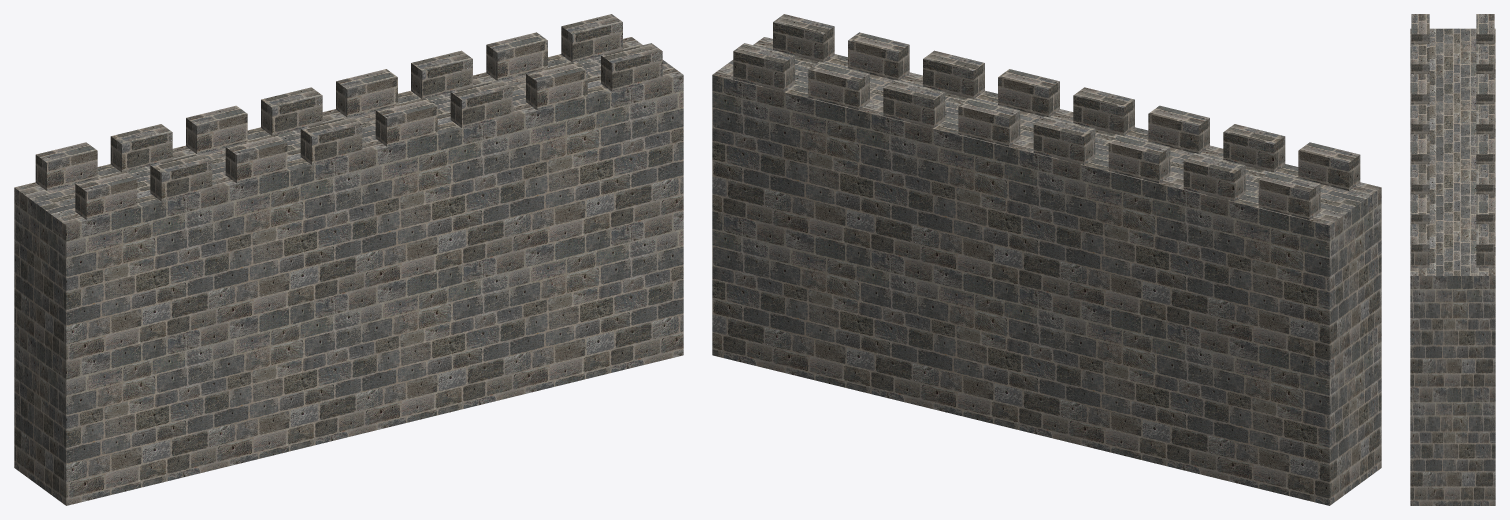
File: Wall.FBX
3 renders of one model, left to right at view 1: azimuth 30°, elevation 25°; view 2: azimuth 150°, elevation 25°; view 3: azimuth 270°, elevation 25°, orthographic. The views are drawn at different scales.
Visible parts, largest first — view 1: Box01, Box03, Box04, Box06, Box05, Box07, Box02, Box10, Box11, Box08, Box09, Box12 (+5 smaller); view 2: Box01, Box11, Box12, Box14, Box13, Box10, Box15, Box02, Box03, Box17, Box16, Box04 (+5 smaller); view 3: Box01, Box09, Box17, Box16, Box04, Box05, Box06, Box07, Box08, Box15, Box12, Box13 (+5 smaller).
Boxes of the visible parts, bbox=[...] form: Box01: bbox=[14, 37, 683, 505]; Box03: bbox=[150, 153, 212, 201]; Box04: bbox=[225, 134, 287, 183]; Box06: bbox=[375, 98, 437, 146]; Box05: bbox=[300, 116, 362, 164]; Box07: bbox=[450, 79, 512, 128]; Box02: bbox=[75, 171, 137, 219]; Box10: bbox=[35, 142, 97, 190]; Box11: bbox=[110, 124, 172, 172]; Box08: bbox=[526, 61, 587, 109]; Box09: bbox=[601, 43, 662, 91]; Box12: bbox=[186, 105, 247, 153]; Box01: bbox=[712, 37, 1381, 505]; Box11: bbox=[1183, 153, 1245, 201]; Box12: bbox=[1108, 134, 1170, 183]; Box14: bbox=[958, 98, 1020, 146]; Box13: bbox=[1033, 116, 1095, 164]; Box10: bbox=[1258, 171, 1320, 219]; Box15: bbox=[883, 79, 945, 128]; Box02: bbox=[1298, 142, 1360, 190]; Box03: bbox=[1223, 124, 1285, 172]; Box17: bbox=[733, 43, 794, 91]; Box16: bbox=[808, 61, 869, 109]; Box04: bbox=[1148, 105, 1209, 153]; Box01: bbox=[1410, 28, 1495, 505]; Box09: bbox=[1411, 224, 1429, 267]; Box17: bbox=[1476, 224, 1494, 267]; Box16: bbox=[1476, 194, 1494, 224]; Box04: bbox=[1411, 74, 1429, 104]; Box05: bbox=[1411, 104, 1429, 134]; Box06: bbox=[1411, 134, 1429, 164]; Box07: bbox=[1411, 164, 1429, 194]; Box08: bbox=[1411, 194, 1429, 224]; Box15: bbox=[1476, 164, 1494, 194]; Box12: bbox=[1476, 74, 1494, 104]; Box13: bbox=[1476, 104, 1494, 134].
Size of the model in its own units: 2650 by 1265 by 387.
